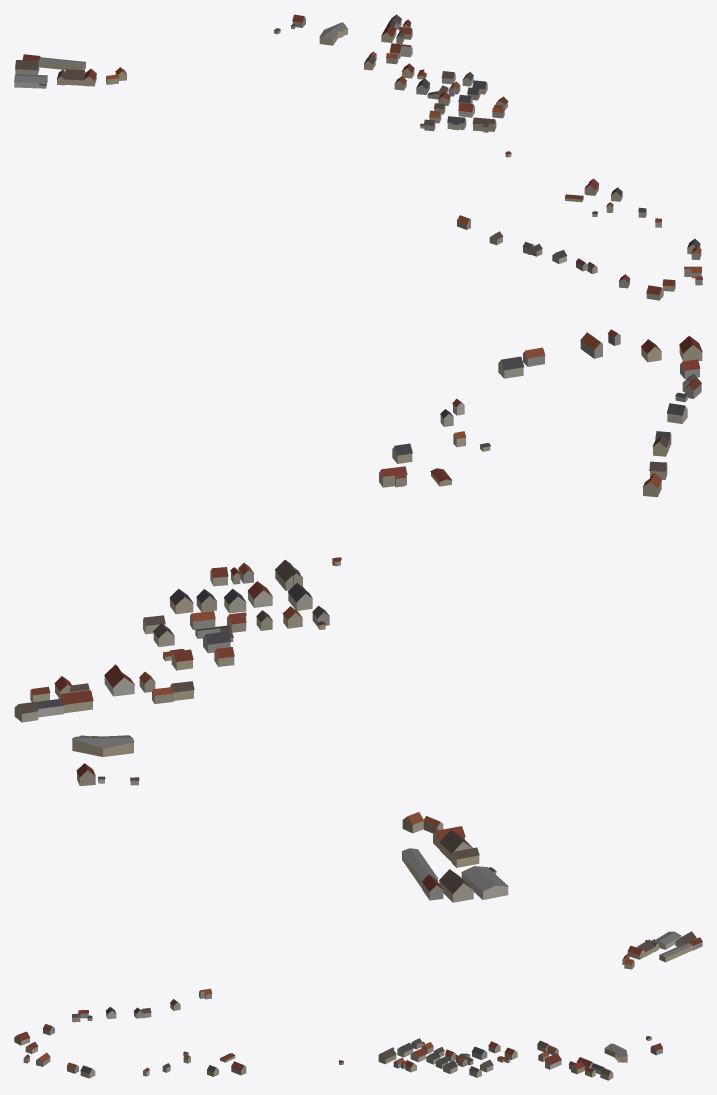
The picture shows the model from 3 angles, top to bottom: view 1: azimuth 30°, elevation 25°; view 2: azimuth 150°, elevation 25°; view 3: azimuth 270°, elevation 25°; orthographic projection. The views are drawn at different scales.
Parts seen in each view (by area): view 1: buildings; view 2: buildings; view 3: buildings.
Boxes of the visible parts, x1,y1,x2,y2 form: buildings: (14,14,702,300); buildings: (14,329,702,902); buildings: (14,931,702,1080).
Bounding box in the file's own units: 389 × 29.03 × 771.
